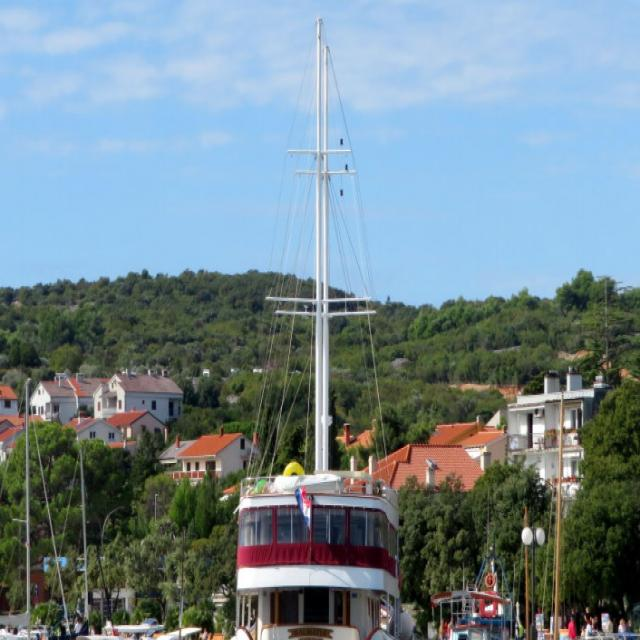cruises: (231, 426, 409, 640)
